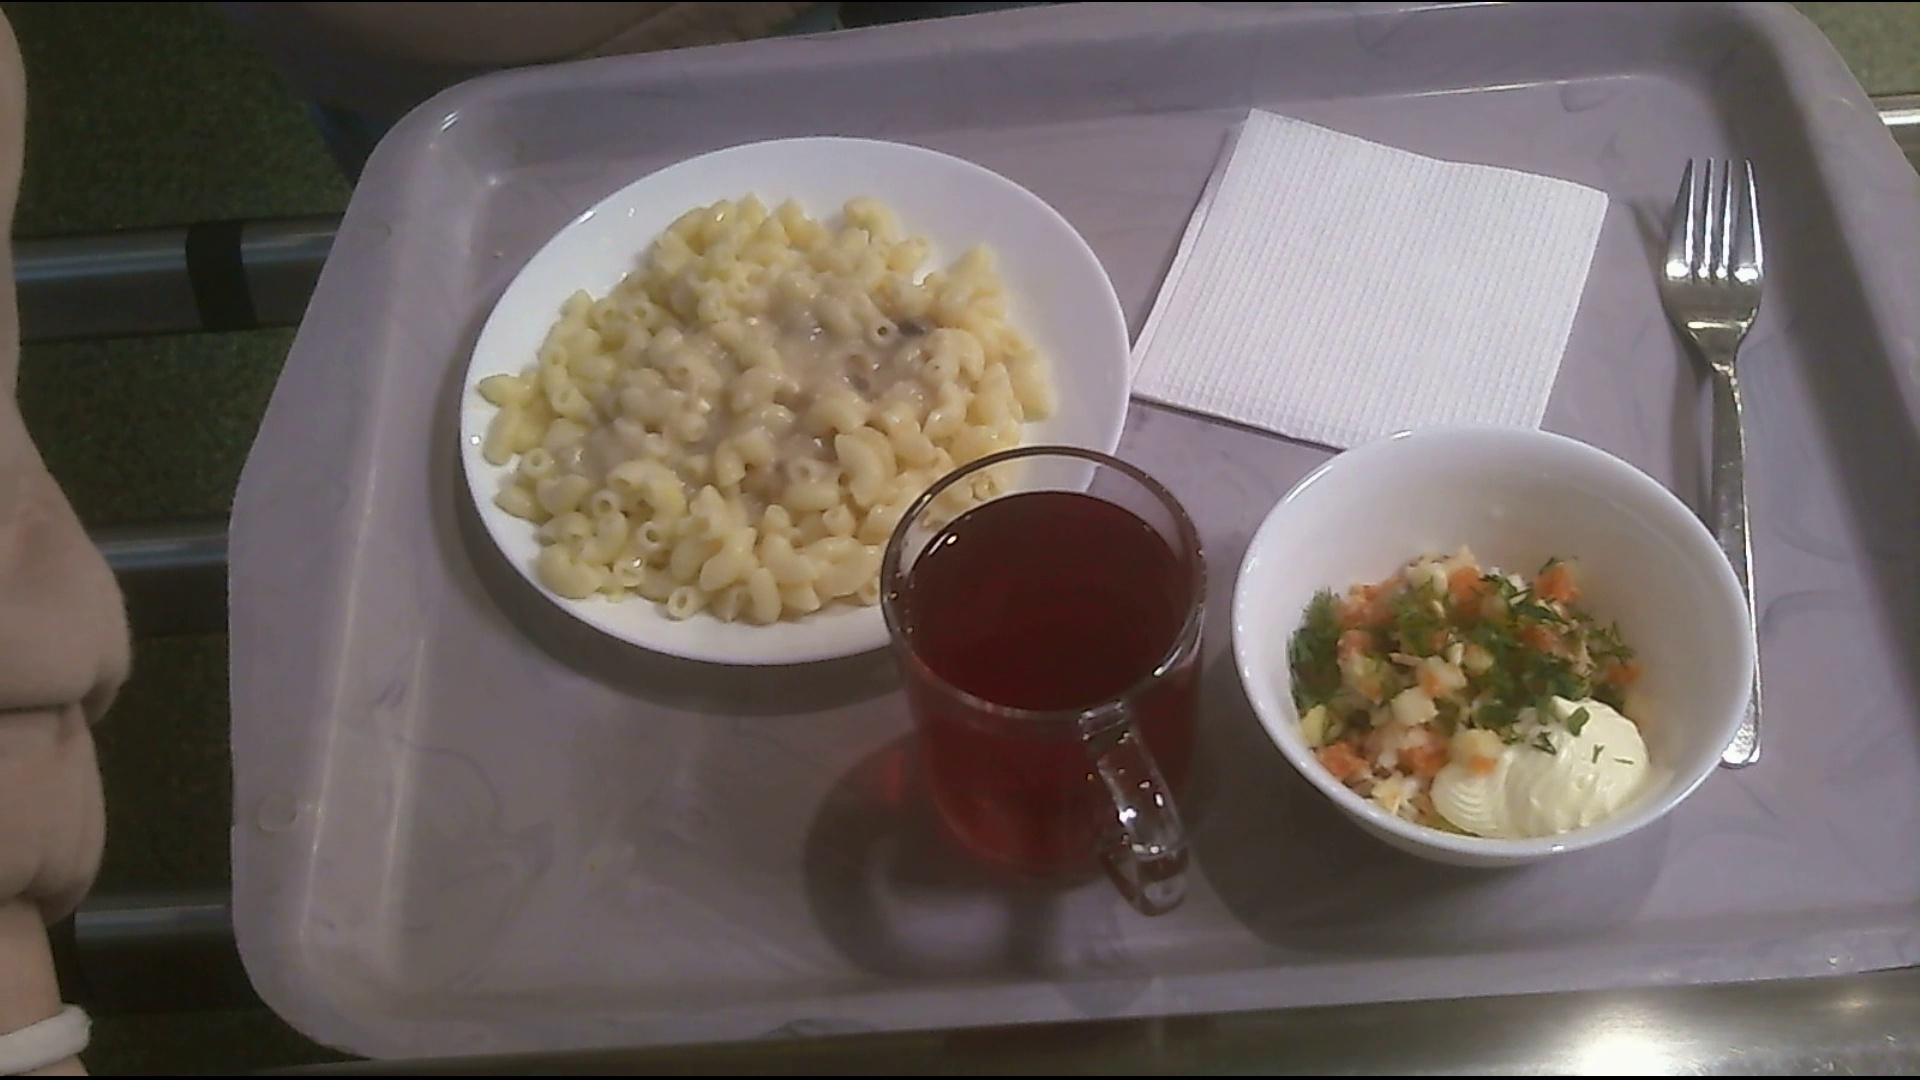bowl: (1238, 429, 1755, 851)
cutlery: (1667, 160, 1775, 791)
drink: (891, 452, 1204, 920)
plate: (458, 131, 1131, 666)
